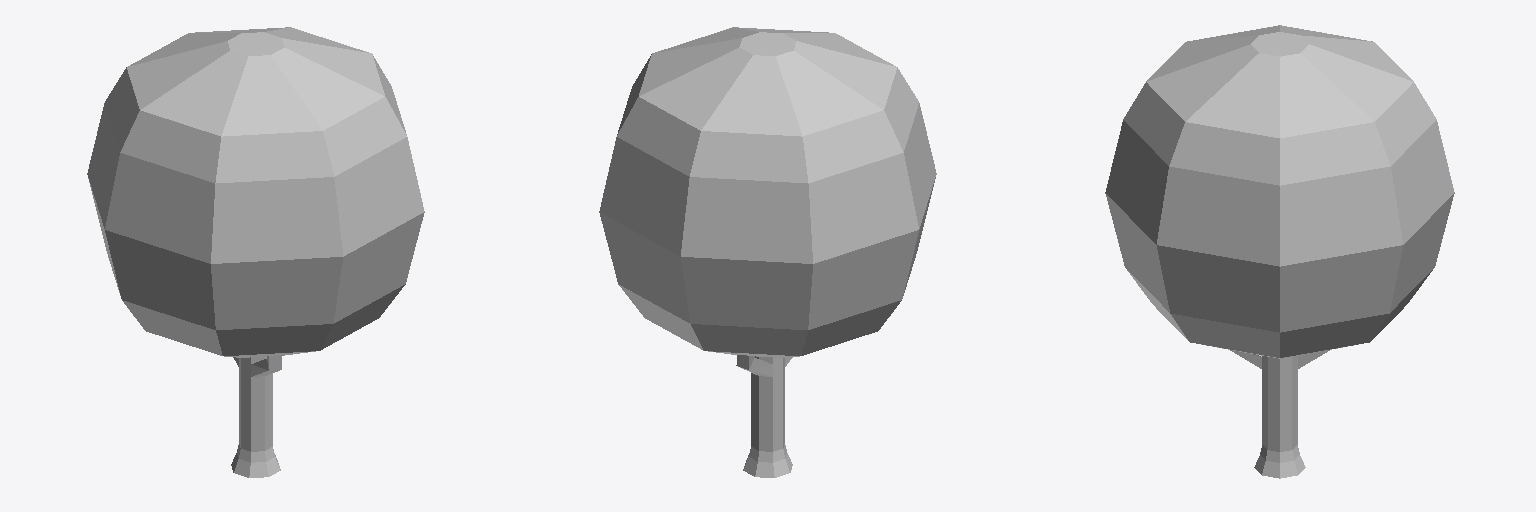
Rendered from MapleTree.obj.
3 renders of one model, left to right at view 1: azimuth 30°, elevation 25°; view 2: azimuth 150°, elevation 25°; view 3: azimuth 270°, elevation 25°, orthographic.
Visible parts, largest first — view 1: Cylinder.001; view 2: Cylinder.001; view 3: Cylinder.001.
Part boxes in pixels (bbox=[...]): Cylinder.001: bbox=[87, 27, 424, 477]; Cylinder.001: bbox=[599, 27, 936, 477]; Cylinder.001: bbox=[1105, 25, 1454, 478].
Bounding box in the file's own units: 3.66 × 4.89 × 3.66.